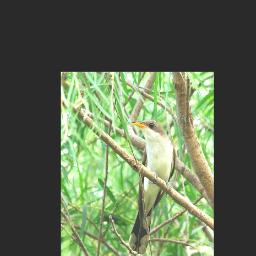Cuckoo: (128, 119, 176, 255)
